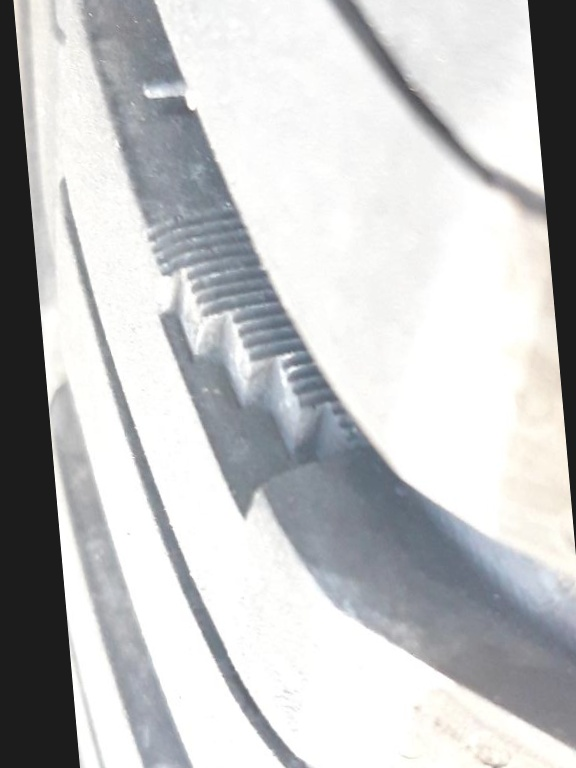temoin:90: (115, 198, 395, 535)
